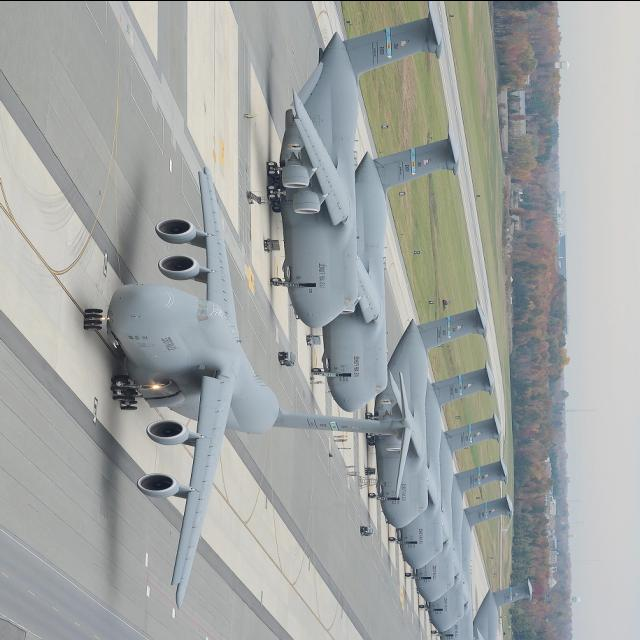C5: (23, 164, 376, 632), (262, 0, 456, 338), (302, 110, 476, 414), (354, 296, 501, 528), (382, 345, 508, 571), (414, 388, 538, 606), (394, 487, 550, 633)
